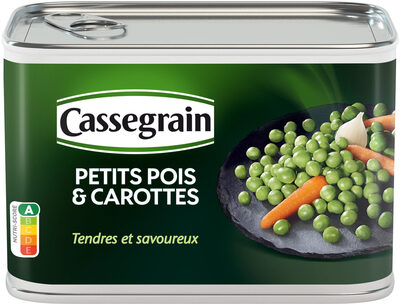Petits Pois et Carottes 4/4: (20, 15, 380, 289)
